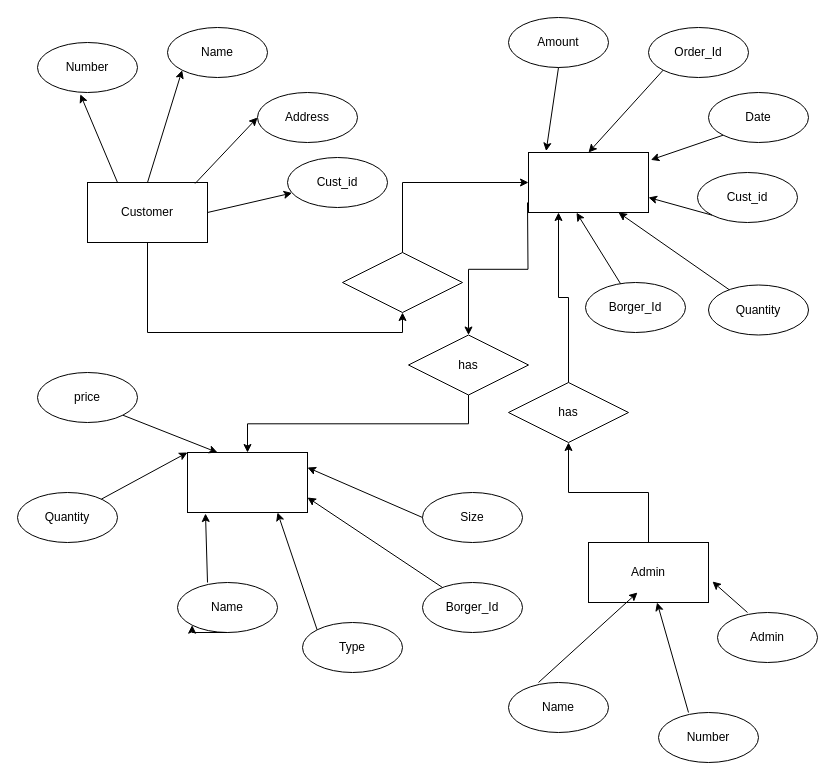
Some shapes in this 835 by 780 pixel diagram are drawn without their labels. The shapes that lost their labels are listed below. From the top down, each one's centre as x and y in pixels, then its label:
point 588,182: Order
point 402,282: place
point 247,482: Burger
